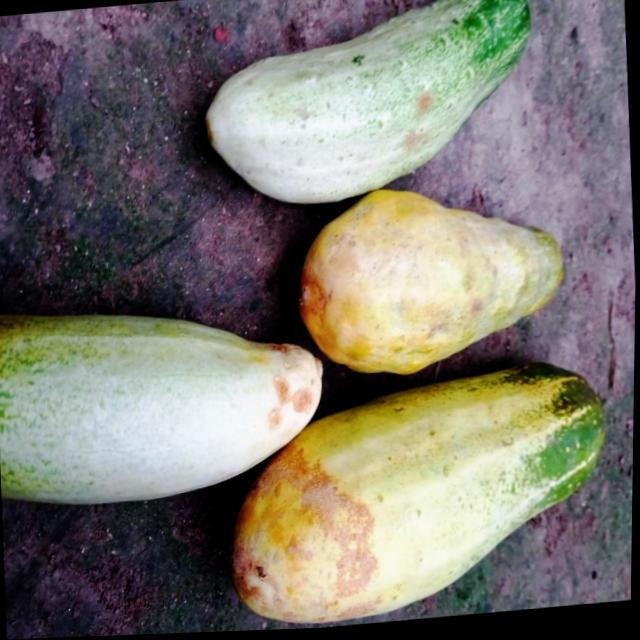Belly-Rot: (222, 445, 398, 633), (259, 338, 318, 440), (297, 268, 335, 336), (399, 93, 439, 157)
